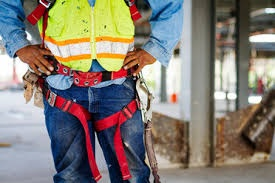Safety_Harness: (26, 1, 152, 182)
